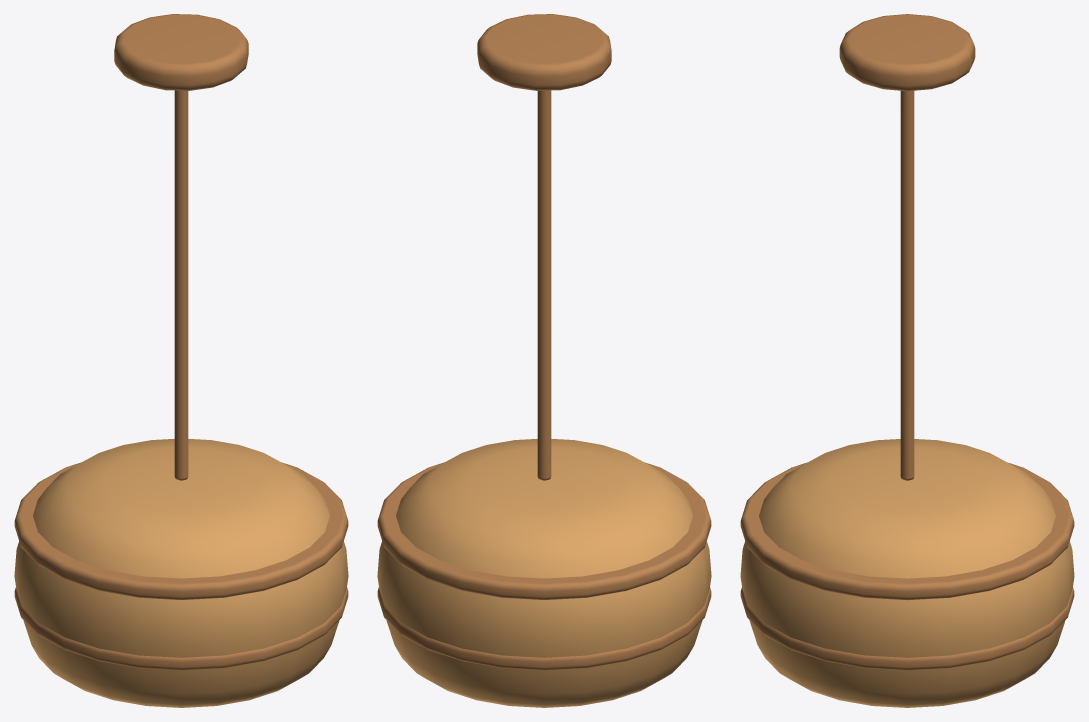
The model's file is barrel_wood_pendant.glb.
The picture shows the model from 3 angles, left to right: view 1: azimuth 30°, elevation 25°; view 2: azimuth 150°, elevation 25°; view 3: azimuth 270°, elevation 25°; orthographic projection.
Parts seen in each view (by area): view 1: barrel_wood_pendant_mesh; view 2: barrel_wood_pendant_mesh; view 3: barrel_wood_pendant_mesh.
Boxes of the visible parts, left/top/right/bottom form: barrel_wood_pendant_mesh: left=14, top=14, right=348, bottom=707; barrel_wood_pendant_mesh: left=377, top=14, right=711, bottom=707; barrel_wood_pendant_mesh: left=740, top=14, right=1074, bottom=707.
Size of the model in its own units: 0.3444 by 0.7 by 0.3444.
